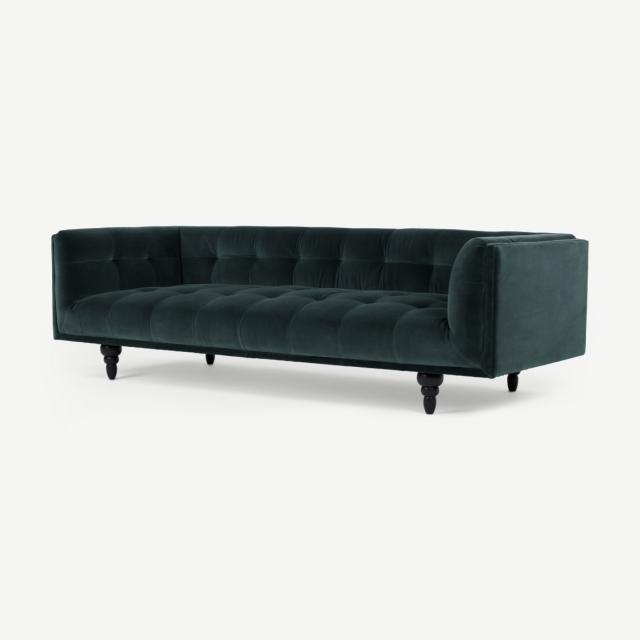Soffa: (33, 217, 594, 415)
